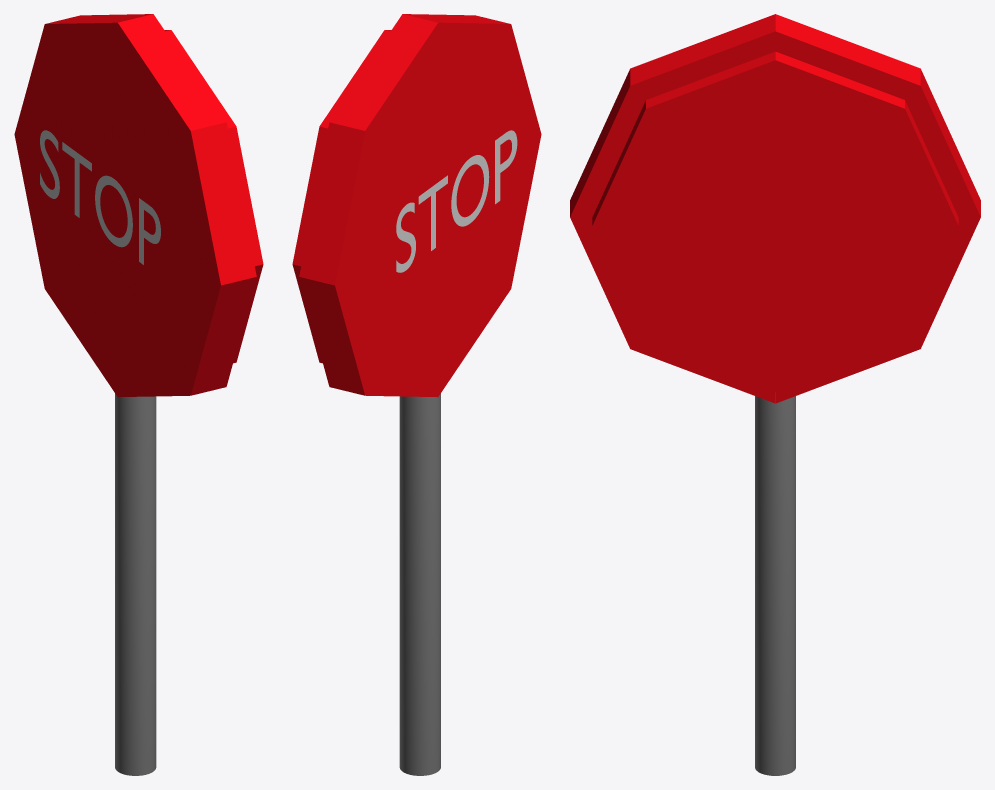
File: StopSign.fbx
The picture shows the model from 3 angles, left to right: view 1: azimuth 30°, elevation 25°; view 2: azimuth 150°, elevation 25°; view 3: azimuth 270°, elevation 25°; orthographic projection.
Parts seen in each view (by area): view 1: Cylinder.001, Cylinder, Text; view 2: Cylinder.001, Cylinder, Text; view 3: Cylinder.001, Cylinder.
Boxes of the visible parts, x1=… form: Cylinder.001: x1=14, y1=14, x2=263, y2=397; Cylinder: x1=115, y1=393, x2=156, y2=775; Text: x1=40, y1=130, x2=160, y2=264; Cylinder.001: x1=292, y1=14, x2=541, y2=397; Cylinder: x1=399, y1=393, x2=440, y2=775; Text: x1=396, y1=130, x2=517, y2=272; Cylinder.001: x1=570, y1=14, x2=980, y2=403; Cylinder: x1=755, y1=392, x2=795, y2=775.
Size of the model in its own units: 40 by 400 by 200.
